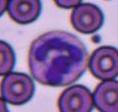N: (28, 30, 88, 86)
